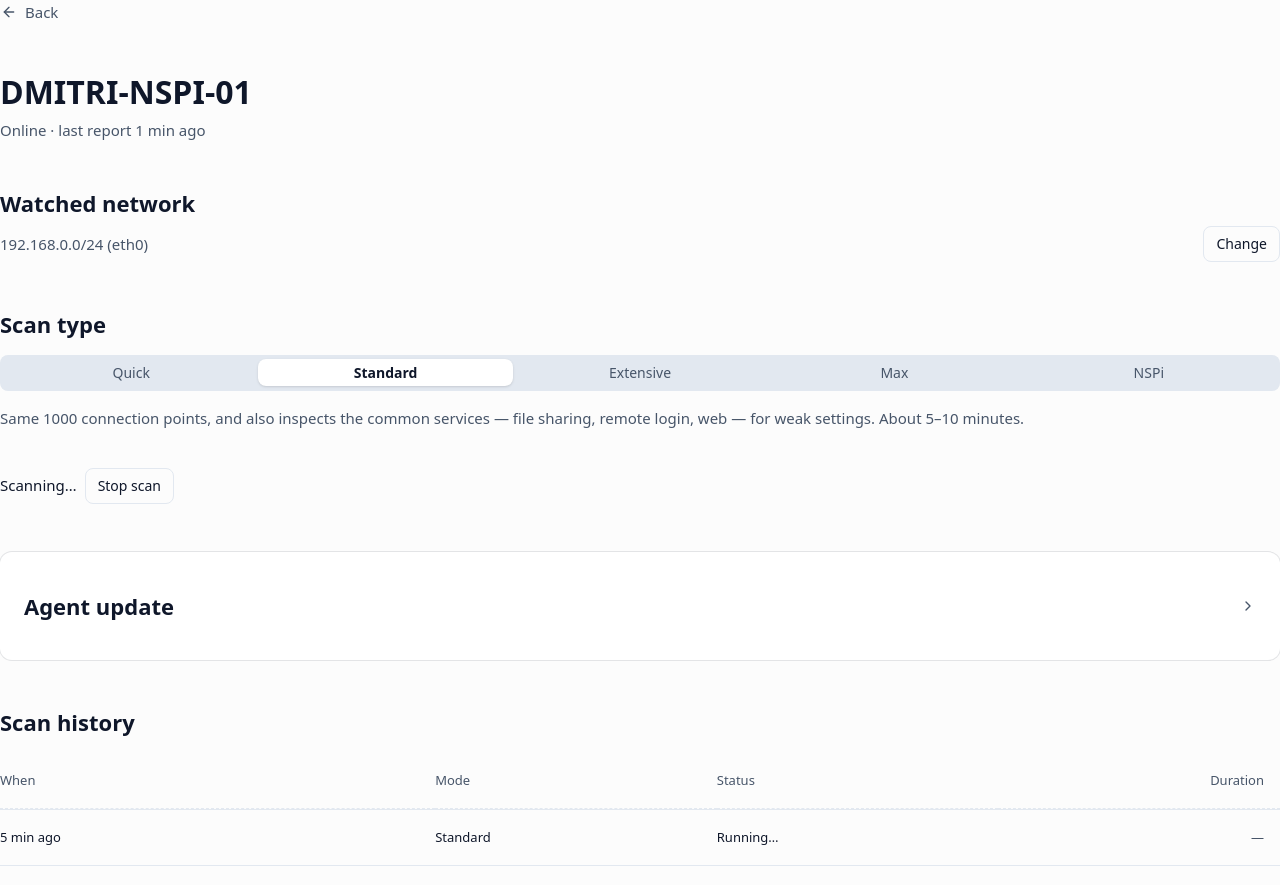
Scenario: DeviceDetail stop scan › explains that a 409 means the Pi is already uploading results
Step 1. Click the button "Stop scan" → coordinates (129, 486), box [85,468,174,504]
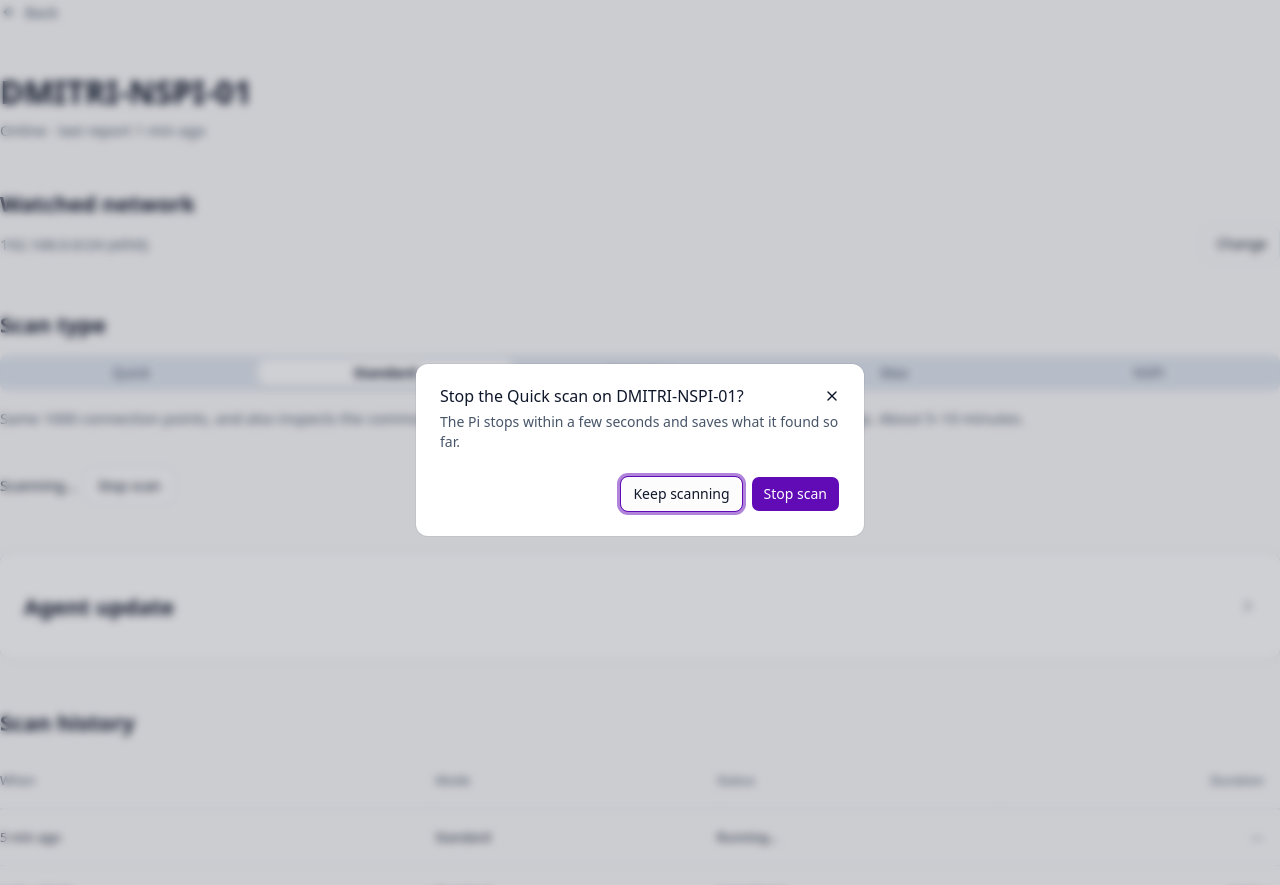
Step 2. Click the button "Stop scan" → coordinates (795, 494), box [751,476,840,512]
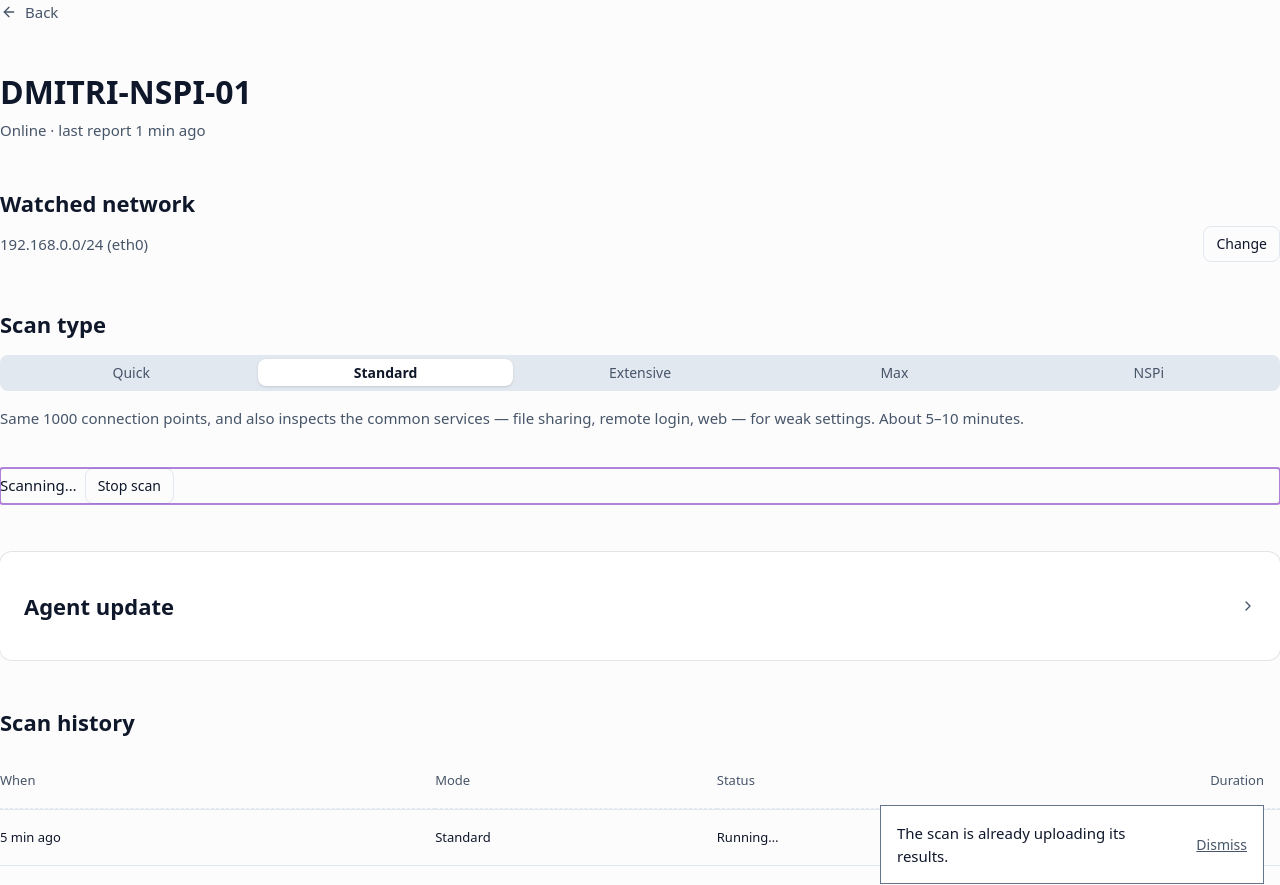
Expected: the text "Scanning…" is shown, [0,474,77,497]
Expected: the list item with test id "toast" shows "The scan is already uploading its results.", [897,823,1126,866]
